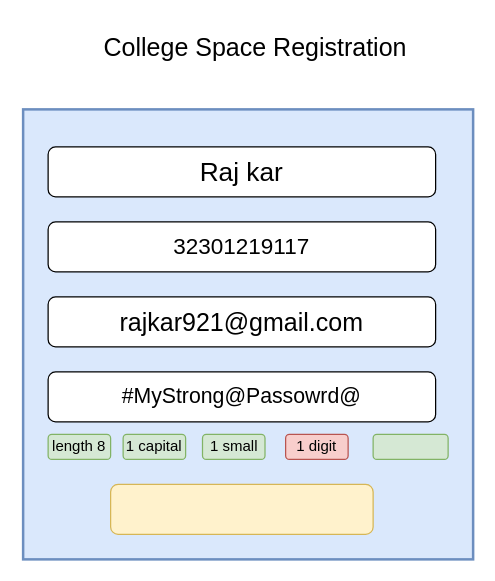
The diagram is 495 pixels wide and 581 high, and some of its shapes have lost their labels. The centre of each missing label's shape, as x and y in pixels:
"1 special" belongs at (410,446).
"Register Now" belongs at (241,508).
